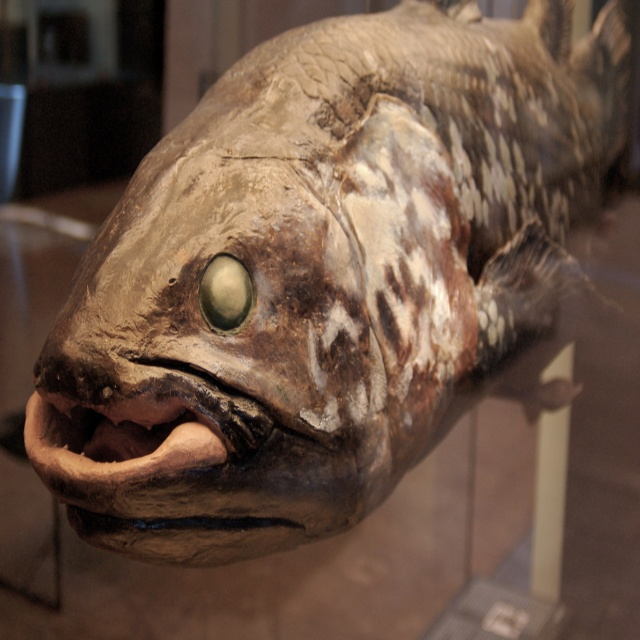Fish: (16, 0, 618, 567)
